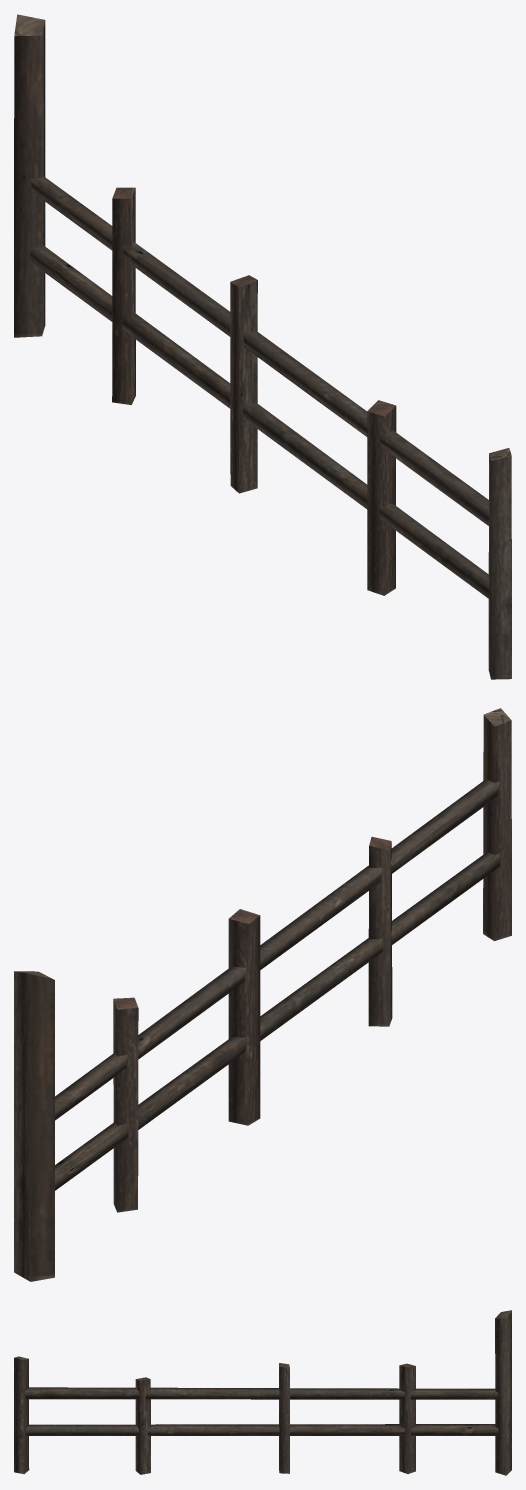
File: b_zx_mulangan01_01_lod1.FBX
3 renders of one model, top to bottom at view 1: azimuth 30°, elevation 25°; view 2: azimuth 150°, elevation 25°; view 3: azimuth 270°, elevation 25°, orthographic. The views are drawn at different scales.
Visible parts, largest first — view 1: b_zx_mulangan01_01_lod1; view 2: b_zx_mulangan01_01_lod1; view 3: b_zx_mulangan01_01_lod1.
Boxes of the visible parts, left/top/right/bottom form: b_zx_mulangan01_01_lod1: left=14, top=14, right=511, bottom=679; b_zx_mulangan01_01_lod1: left=14, top=708, right=511, bottom=1281; b_zx_mulangan01_01_lod1: left=14, top=1310, right=511, bottom=1475.
Bounding box in the file's own units: 0.3282 × 2.69 × 7.57.
